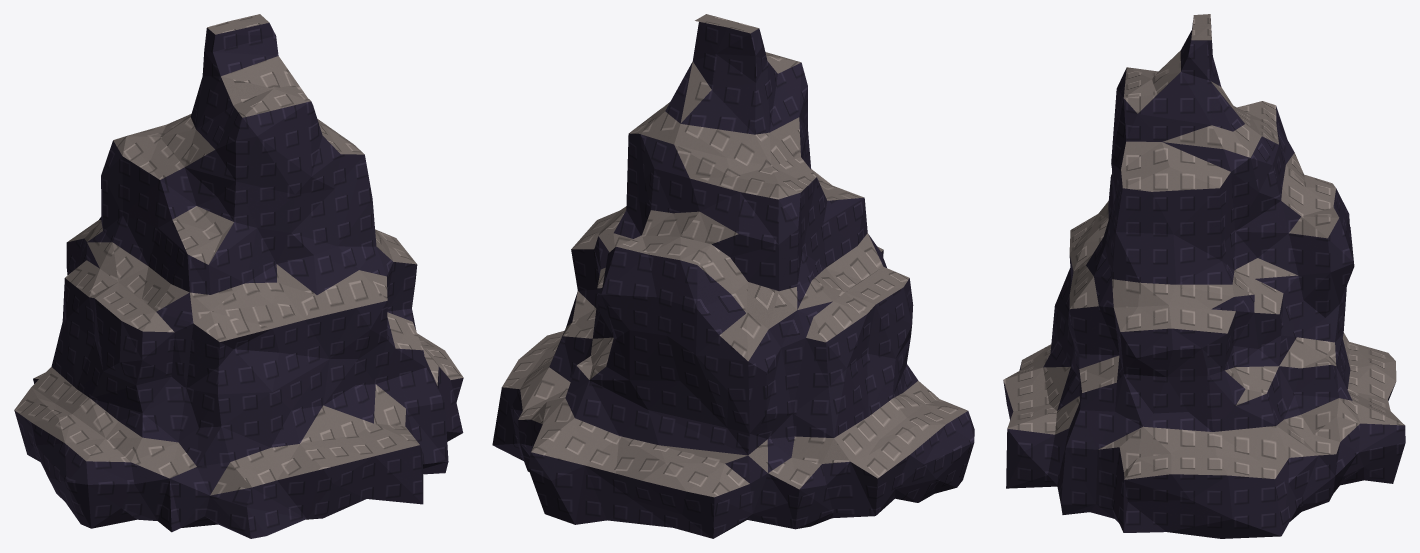
File: ObsidianStack.glb
The picture shows the model from 3 angles, left to right: view 1: azimuth 30°, elevation 25°; view 2: azimuth 150°, elevation 25°; view 3: azimuth 270°, elevation 25°; orthographic projection. The views are drawn at different scales.
Visible parts, largest first — view 1: ObsidianStack_Rock, ObsidianStack_Top; view 2: ObsidianStack_Rock, ObsidianStack_Top; view 3: ObsidianStack_Rock, ObsidianStack_Top.
Part boxes in pixels (<box>): ObsidianStack_Rock: <box>14,22,463,538</box>; ObsidianStack_Top: <box>14,14,463,495</box>; ObsidianStack_Rock: <box>492,22,974,538</box>; ObsidianStack_Top: <box>502,14,967,497</box>; ObsidianStack_Rock: <box>1003,18,1405,538</box>; ObsidianStack_Top: <box>1003,14,1404,479</box>.
Bounding box in the file's own units: 16.79 × 17.7 × 14.87.
2 materials, 2 textured.
